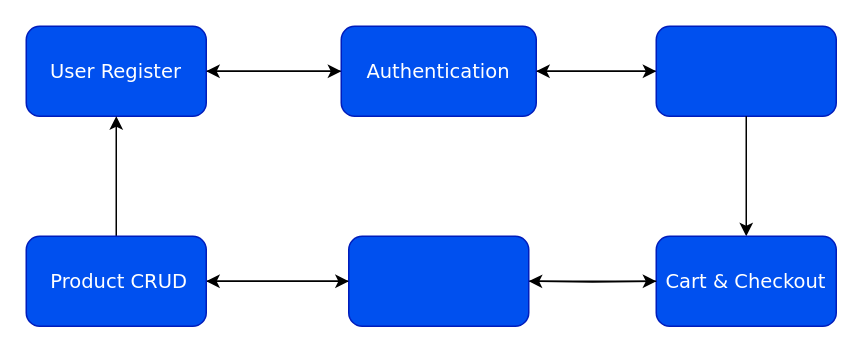
Some shapes in this 863 by 353 pixel diagram are drawn without their labels. The shapes that lost their labels are listed below. From the top down, each one's box as (x1, y1, x2, y2) in pixels, then its label:
(655, 25, 836, 116): User Database
(347, 235, 529, 326): Order Management
